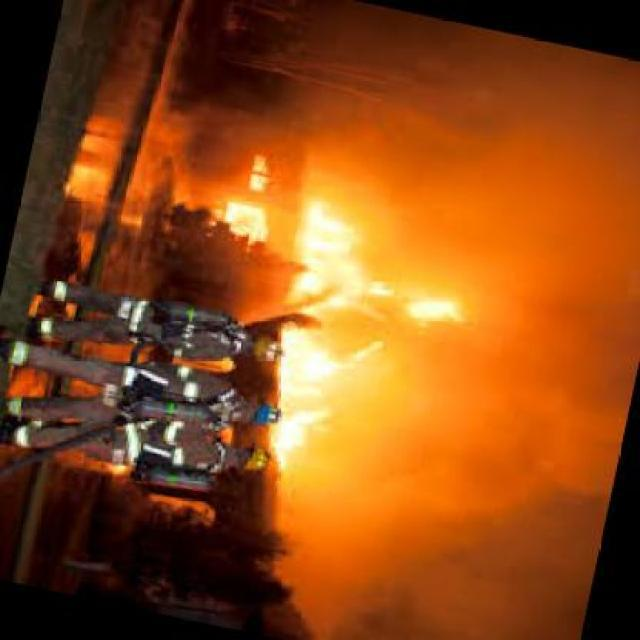Fire: (278, 191, 384, 472), (389, 287, 467, 328), (222, 190, 276, 248)
Smoke: (380, 347, 600, 640), (375, 72, 640, 286)
